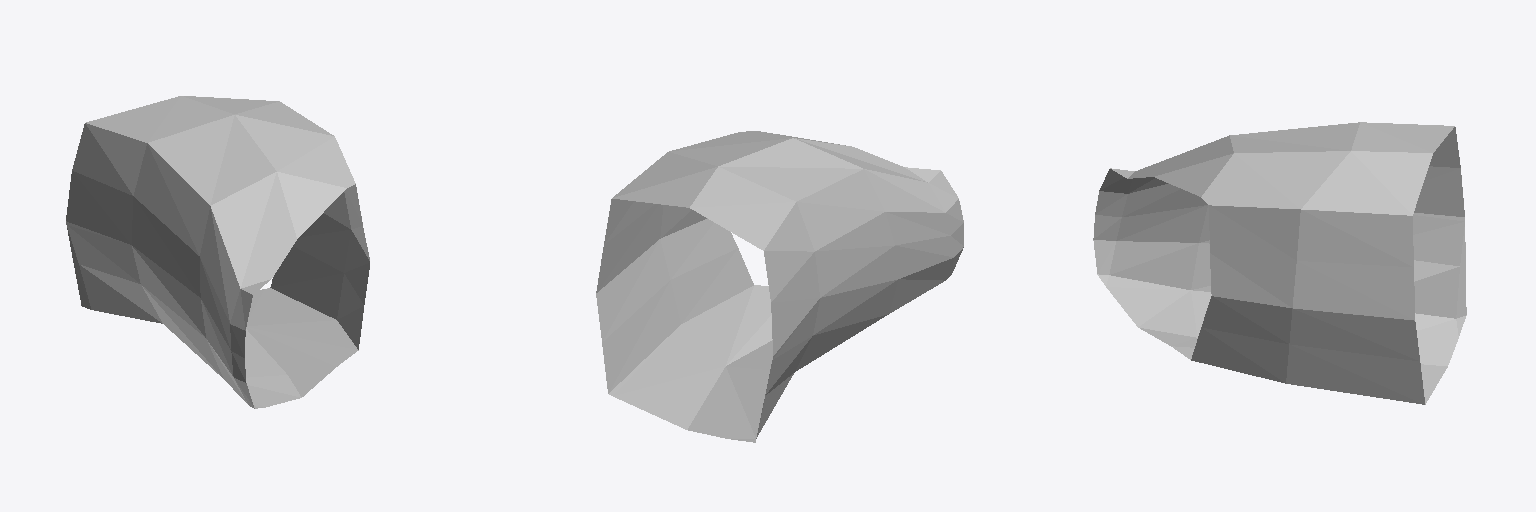
File: Bicep.obj
The picture shows the model from 3 angles: view 1: azimuth 30°, elevation 25°; view 2: azimuth 150°, elevation 25°; view 3: azimuth 270°, elevation 25°; orthographic projection.
Visible parts, largest first — view 1: Cube.003; view 2: Cube.003; view 3: Cube.003.
Boxes of the visible parts, x1=… form: Cube.003: x1=66, y1=96, x2=369, y2=408; Cube.003: x1=596, y1=131, x2=963, y2=442; Cube.003: x1=1093, y1=122, x2=1466, y2=404.
Bounding box in the file's own units: 1.52 × 1.56 × 2.35.